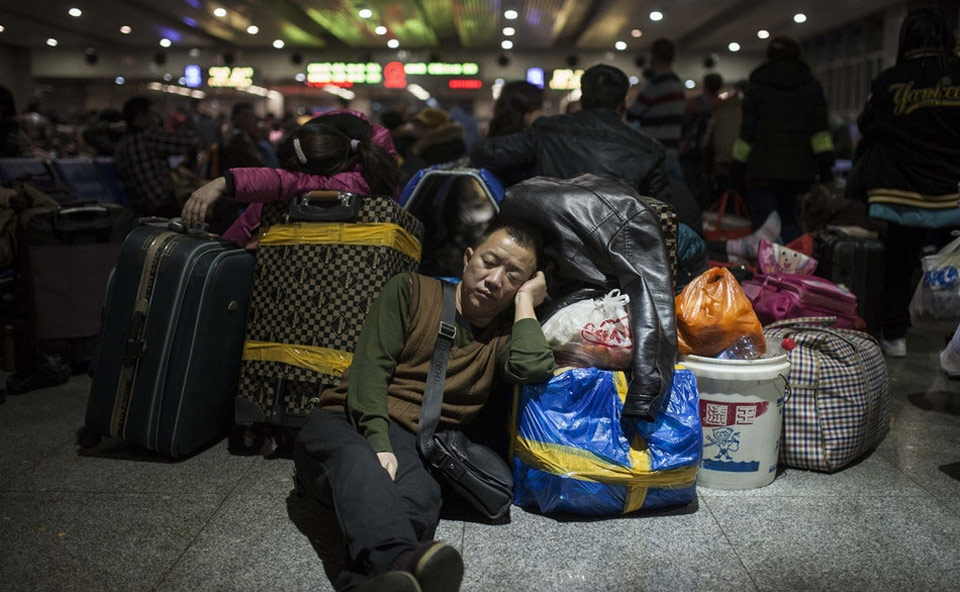falling: (270, 210, 557, 589)
